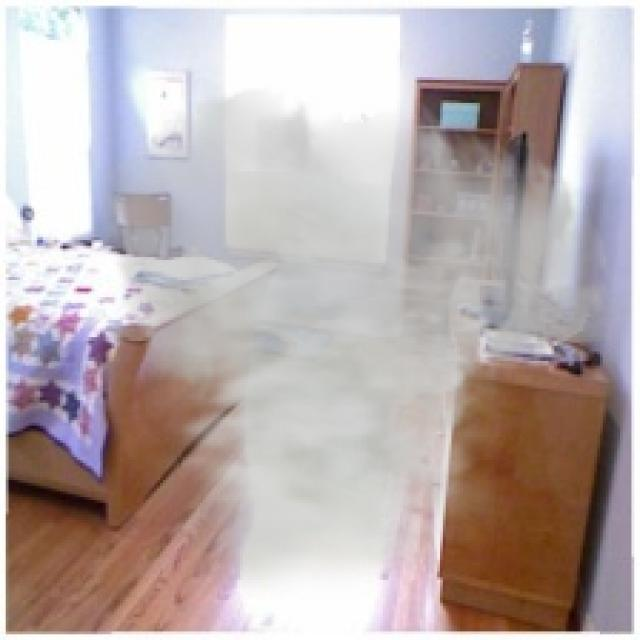smoke: (95, 86, 614, 600)
